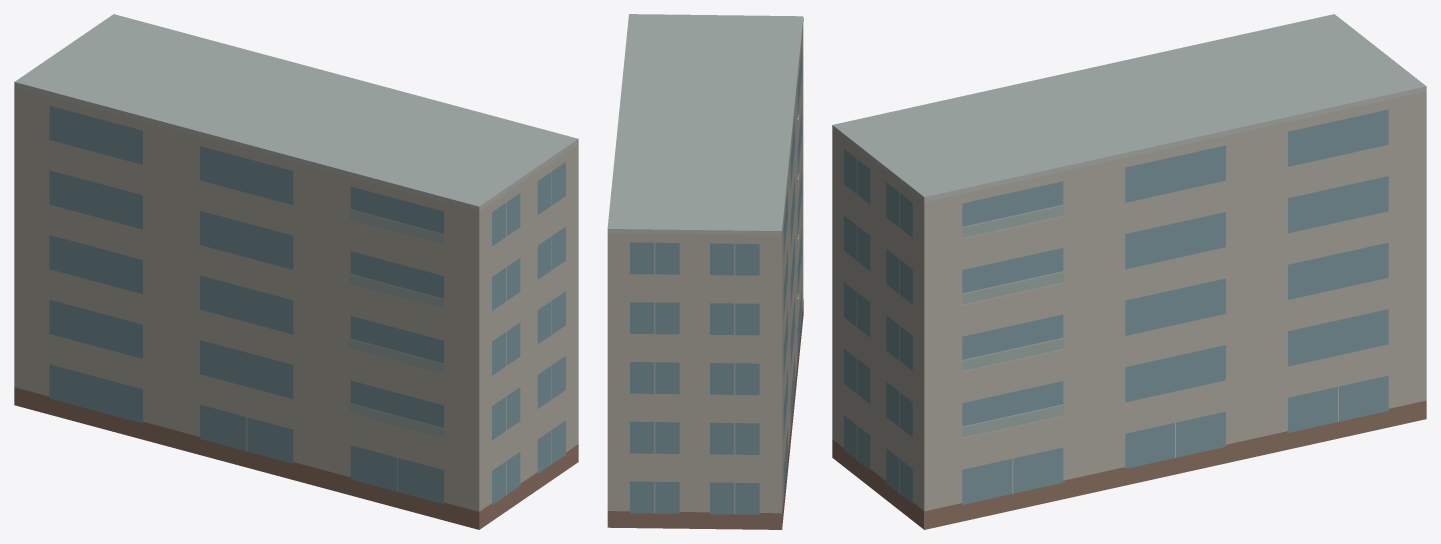
Rendered from survey-upis-33019593.glb.
3 views of the same model, side by side, from view 1: azimuth 30°, elevation 25°; view 2: azimuth 150°, elevation 25°; view 3: azimuth 270°, elevation 25° (orthographic). The views are drawn at different scales.
Visible parts, largest first — view 1: survey-upis-33019593.tmp; view 2: survey-upis-33019593.tmp; view 3: survey-upis-33019593.tmp.
Part boxes in pixels (x1,y1,x2,y2): survey-upis-33019593.tmp: [14, 14, 578, 529]; survey-upis-33019593.tmp: [607, 14, 803, 529]; survey-upis-33019593.tmp: [832, 14, 1426, 529].
Bounding box in the file's own units: 19.2 × 16.25 × 26.32.
